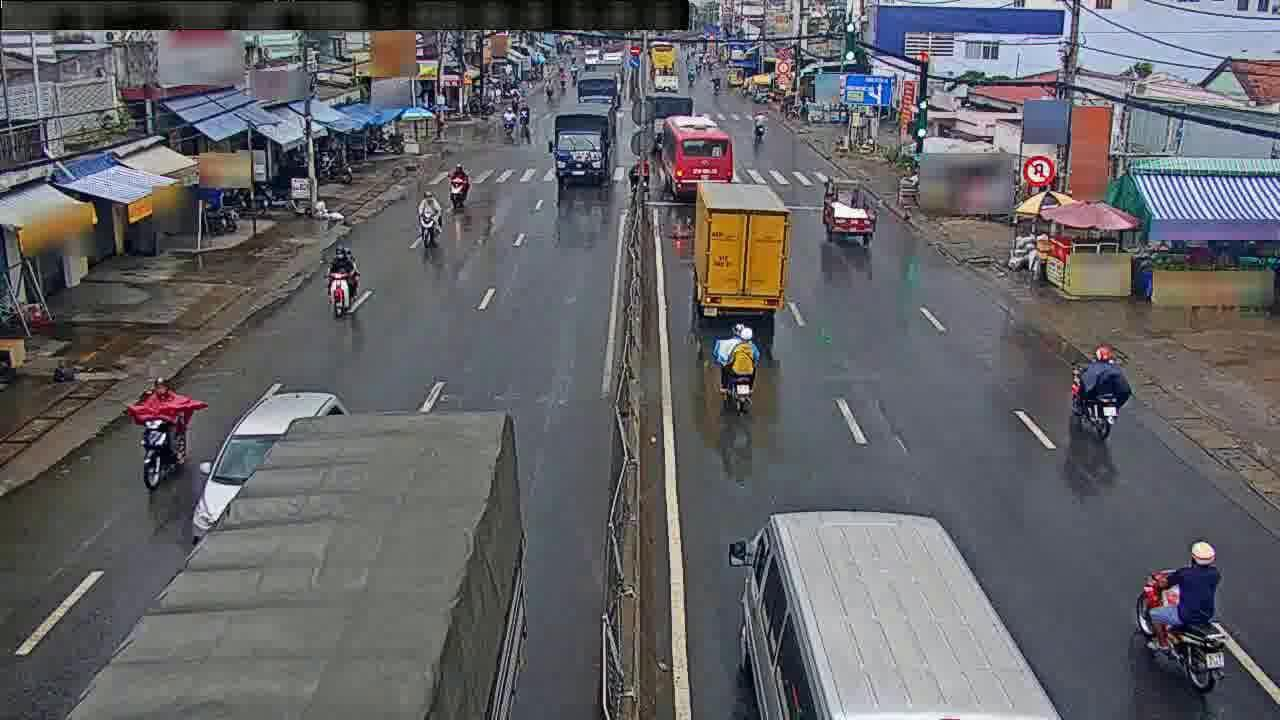14: (722, 510, 1070, 720), (657, 106, 735, 183)
8: (75, 409, 537, 720), (695, 178, 778, 325), (554, 97, 610, 175)
container: (191, 390, 365, 535)
motorbike: (1128, 540, 1228, 694), (131, 384, 199, 482), (1072, 326, 1126, 447), (713, 320, 760, 404), (317, 240, 366, 314), (411, 190, 445, 242), (445, 162, 476, 213), (751, 108, 767, 145), (516, 100, 533, 129)
